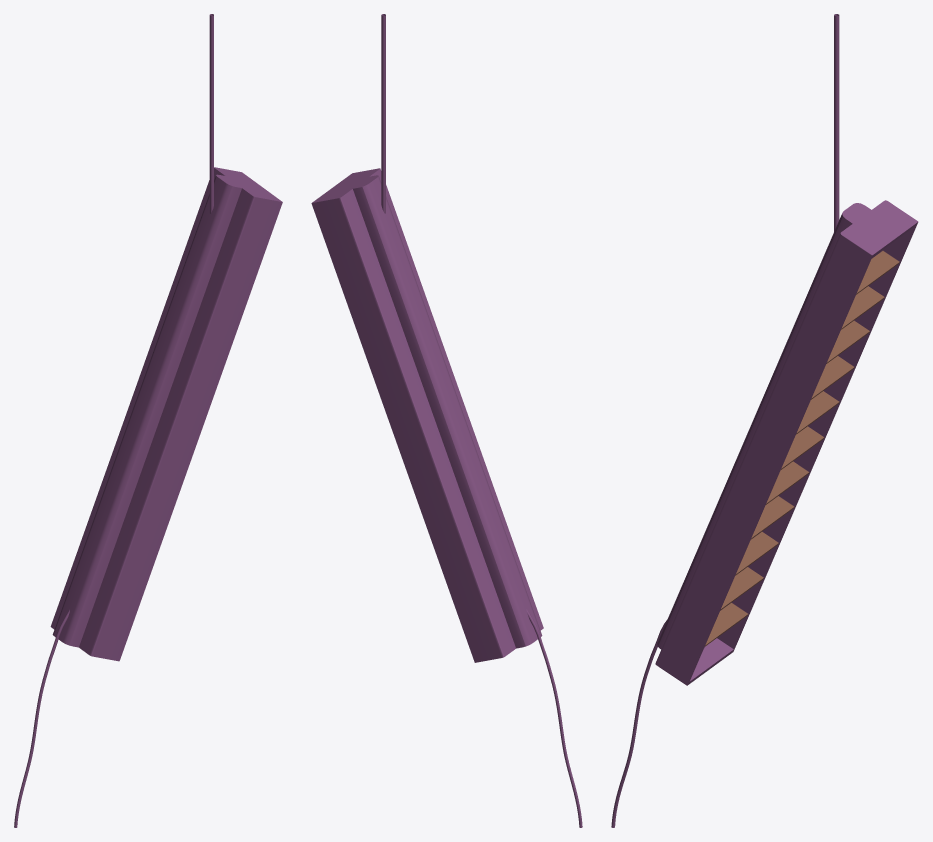
File: Lampara_Caida.fbx
3 views of the same model, side by side, from view 1: azimuth 30°, elevation 25°; view 2: azimuth 150°, elevation 25°; view 3: azimuth 330°, elevation 25° (orthographic). The views are drawn at different scales.
Visible parts, largest first — view 1: polySurface112; view 2: polySurface112; view 3: polySurface112.
Part boxes in pixels (x1,y1,x2,y2): polySurface112: [14, 14, 282, 827]; polySurface112: [311, 14, 582, 827]; polySurface112: [611, 14, 918, 827].
Size of the model in its own units: 7.04 by 20.63 by 2.
